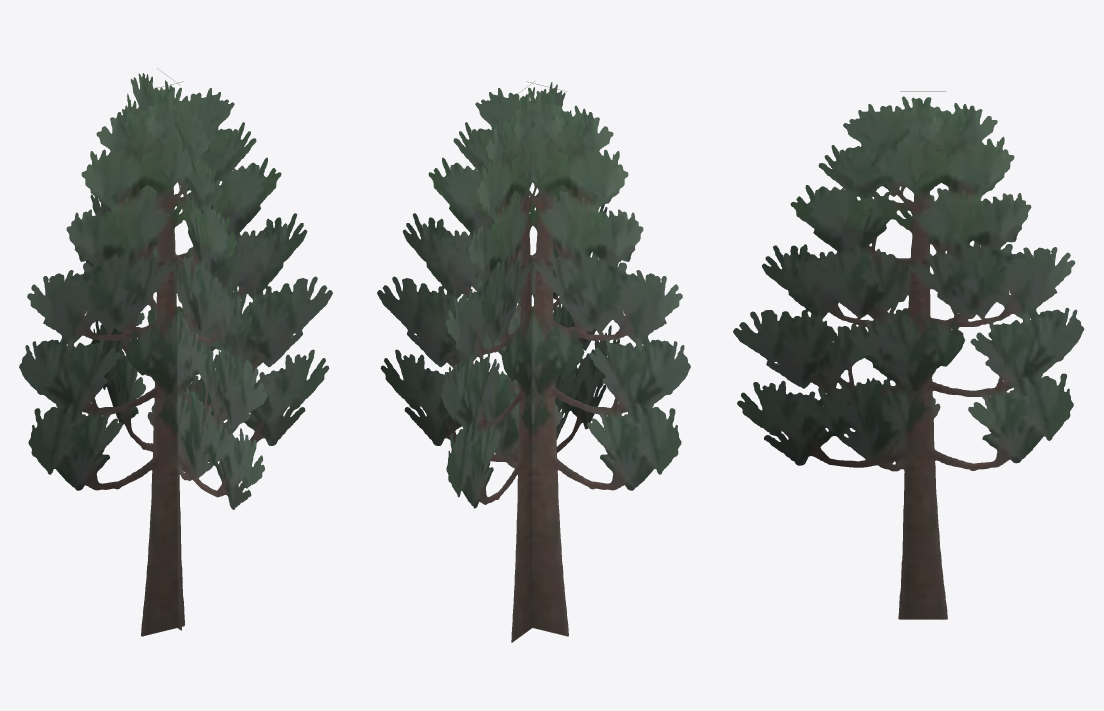
The model's file is arvore_araucaria_impostor.glb.
3 renders of one model, left to right at view 1: azimuth 30°, elevation 25°; view 2: azimuth 150°, elevation 25°; view 3: azimuth 270°, elevation 25°, orthographic. The views are drawn at different scales.
Visible parts, largest first — view 1: arvore_araucaria_impostor; view 2: arvore_araucaria_impostor; view 3: arvore_araucaria_impostor.
Boxes of the visible parts, left/top/right/bottom form: arvore_araucaria_impostor: left=19, top=68, right=332, bottom=636; arvore_araucaria_impostor: left=377, top=81, right=690, bottom=642; arvore_araucaria_impostor: left=733, top=91, right=1084, bottom=619.
Size of the model in its own units: 4.33 by 6.89 by 4.33.
Materials: 1 (1 with a texture image).
